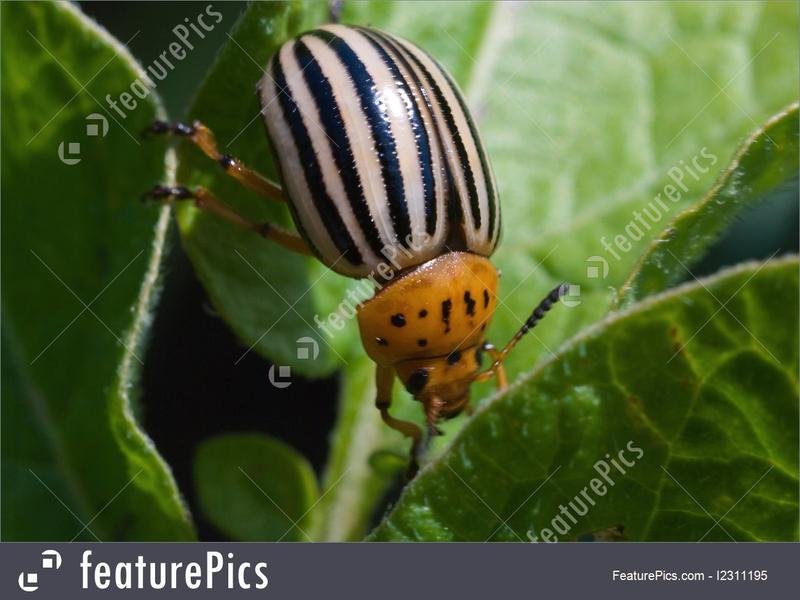hrosc: (248, 17, 515, 431)
